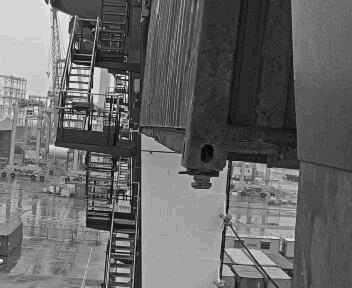twist_lock_1: (170, 165, 214, 197)
